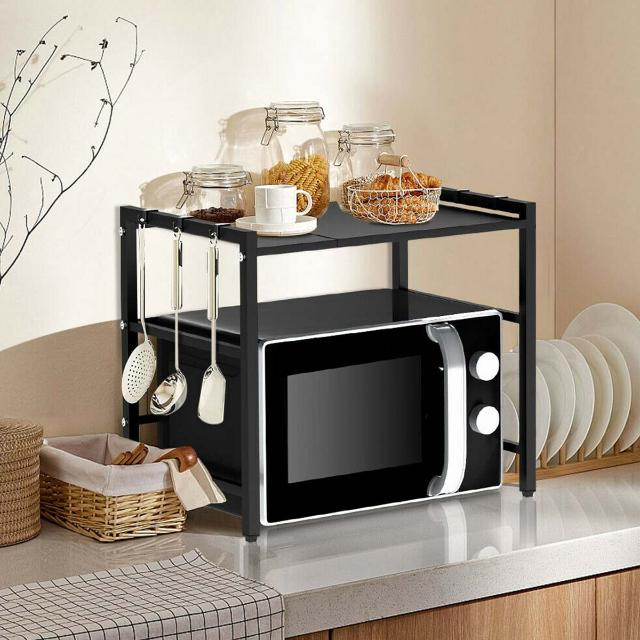Microwave: (140, 292, 510, 524)
